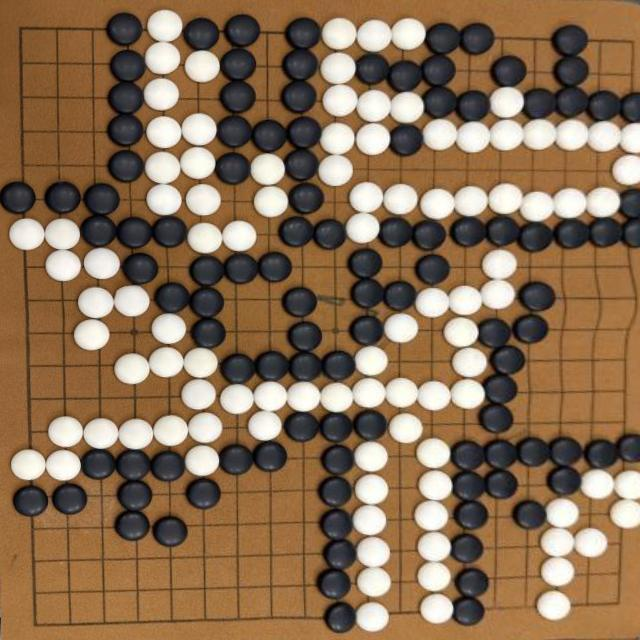blackstone: (220, 80, 257, 114), (107, 149, 144, 183), (45, 181, 82, 215), (108, 81, 145, 115), (107, 113, 144, 147), (106, 12, 143, 46), (220, 48, 258, 81), (282, 80, 318, 114), (81, 214, 117, 248), (283, 48, 319, 82), (83, 183, 120, 216), (285, 16, 322, 49), (51, 483, 88, 516), (1, 181, 36, 215), (154, 281, 190, 314), (190, 255, 226, 288), (152, 216, 188, 249), (217, 115, 253, 148), (116, 217, 152, 250), (492, 55, 528, 88), (117, 479, 153, 512), (110, 49, 146, 82), (554, 55, 590, 88), (183, 17, 219, 50), (552, 24, 589, 56), (285, 148, 319, 182), (422, 53, 456, 87), (415, 253, 450, 286), (289, 182, 324, 215), (252, 119, 287, 152), (287, 116, 322, 149), (422, 85, 457, 118), (122, 252, 158, 284), (189, 286, 225, 318), (224, 253, 260, 285), (284, 411, 320, 443), (225, 14, 261, 46), (13, 485, 49, 517), (281, 287, 318, 318), (216, 152, 250, 185), (486, 215, 520, 248), (460, 22, 494, 55), (555, 86, 589, 119), (116, 450, 151, 482), (555, 218, 590, 250), (318, 568, 353, 600), (153, 516, 188, 548), (490, 344, 526, 375), (150, 451, 186, 482), (518, 221, 554, 252), (256, 350, 290, 382), (351, 278, 385, 310), (320, 444, 354, 476), (456, 90, 490, 122), (389, 124, 423, 156), (319, 476, 353, 508), (320, 509, 354, 541), (355, 53, 389, 85), (584, 438, 618, 470), (451, 440, 485, 472), (451, 533, 485, 565), (523, 88, 557, 120), (426, 23, 460, 55), (288, 321, 323, 352), (348, 248, 383, 279), (191, 317, 226, 348), (450, 216, 485, 247), (483, 373, 518, 404), (219, 444, 254, 475), (454, 500, 489, 531), (186, 478, 221, 509), (81, 449, 116, 480), (452, 471, 487, 502), (323, 539, 358, 570), (114, 511, 149, 542), (519, 282, 555, 312), (513, 314, 549, 344), (220, 354, 256, 384), (413, 219, 446, 251), (388, 60, 421, 92), (587, 90, 620, 122), (324, 601, 357, 633), (279, 216, 313, 247), (353, 410, 387, 441), (322, 351, 356, 382), (478, 317, 512, 348), (289, 351, 323, 382), (319, 412, 353, 443), (549, 437, 583, 468), (517, 437, 551, 468), (484, 439, 518, 470), (455, 567, 489, 598), (479, 404, 514, 434), (379, 217, 412, 248), (588, 217, 621, 248), (258, 252, 292, 282), (254, 441, 288, 471), (548, 466, 582, 496), (485, 469, 519, 499), (452, 596, 486, 626), (513, 500, 548, 529), (350, 316, 383, 346), (384, 281, 416, 311), (314, 219, 346, 249), (617, 433, 640, 463), (619, 188, 640, 220), (621, 92, 640, 124), (621, 217, 640, 247)
whitestone: (8, 217, 46, 252), (144, 42, 182, 77), (83, 247, 122, 281), (180, 146, 217, 181), (44, 449, 82, 483), (45, 249, 83, 283), (77, 286, 115, 320), (144, 151, 182, 185), (143, 78, 181, 112), (146, 9, 184, 43), (83, 417, 120, 451), (114, 284, 151, 318), (320, 52, 357, 86), (73, 319, 111, 352), (180, 378, 218, 411), (10, 448, 46, 482), (48, 415, 84, 449), (153, 414, 189, 448), (552, 187, 588, 221), (146, 116, 182, 150), (355, 122, 391, 156), (322, 84, 358, 118), (356, 89, 392, 123), (322, 17, 358, 51), (44, 218, 81, 251), (151, 313, 188, 346), (250, 153, 287, 186), (185, 183, 222, 216), (184, 50, 221, 83), (181, 113, 218, 146), (319, 122, 354, 156), (422, 118, 457, 152), (118, 418, 154, 451), (355, 536, 391, 569), (187, 222, 223, 255), (146, 183, 182, 216), (318, 155, 354, 188), (487, 183, 523, 216), (391, 18, 427, 51), (356, 19, 392, 52), (113, 352, 150, 384), (148, 346, 185, 378), (247, 410, 284, 442), (414, 500, 451, 532), (253, 186, 290, 218), (451, 346, 488, 378), (586, 120, 620, 154), (586, 186, 620, 220), (554, 118, 588, 152), (456, 120, 490, 154), (390, 91, 424, 125), (418, 469, 453, 502), (417, 379, 452, 412), (489, 119, 524, 152), (489, 86, 524, 119), (383, 183, 418, 216), (454, 185, 489, 218), (184, 445, 220, 477), (540, 526, 576, 558), (540, 555, 576, 587), (356, 566, 392, 598), (183, 347, 219, 379), (187, 412, 223, 444), (352, 504, 388, 536), (353, 440, 389, 472), (219, 383, 255, 415), (419, 593, 455, 625), (253, 381, 289, 413), (450, 378, 486, 410), (443, 316, 479, 348), (348, 182, 384, 214), (522, 118, 556, 151), (346, 212, 380, 245), (544, 497, 579, 529), (354, 474, 389, 506), (417, 561, 452, 593), (388, 412, 423, 444), (355, 602, 390, 634), (420, 188, 455, 220), (417, 530, 452, 562), (536, 590, 572, 621), (480, 280, 516, 311), (482, 248, 518, 279), (416, 437, 450, 469), (222, 220, 256, 252), (354, 345, 388, 377), (287, 381, 321, 413), (520, 190, 554, 222), (320, 381, 354, 413), (352, 377, 386, 409), (415, 287, 450, 318), (448, 285, 483, 316), (385, 378, 418, 410), (580, 469, 614, 500), (384, 313, 419, 343), (574, 528, 607, 558), (609, 499, 640, 530), (611, 153, 640, 186), (613, 469, 640, 500), (619, 122, 640, 155)
